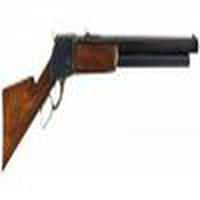gun: (4, 31, 199, 181)
